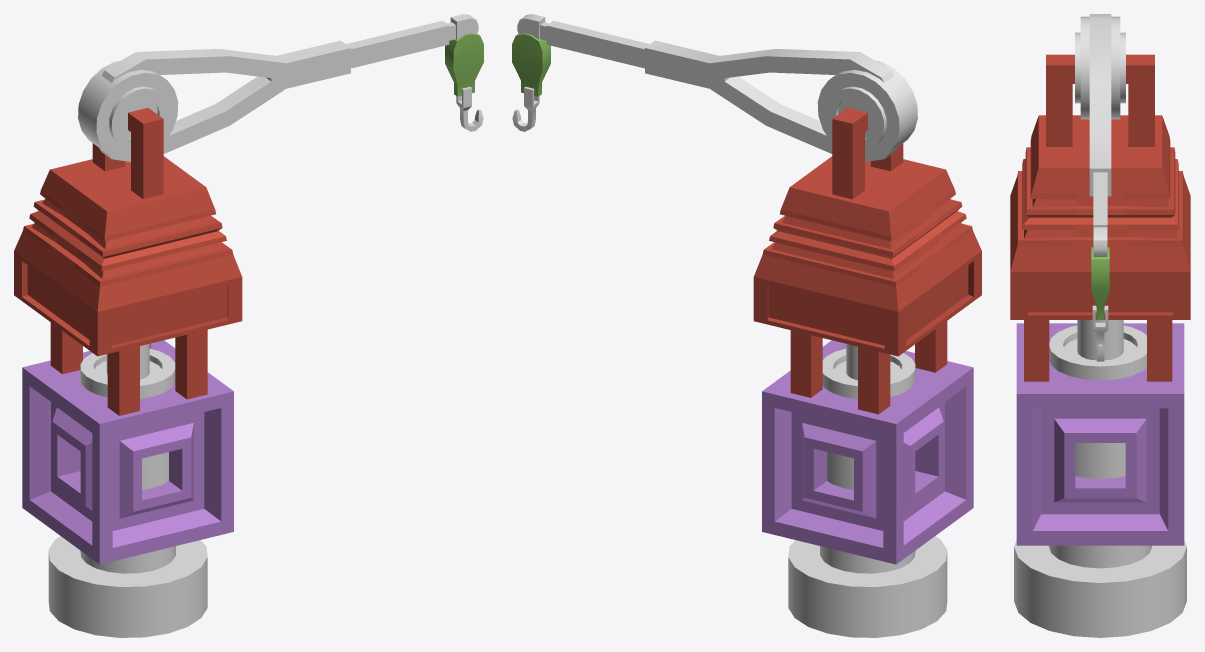
The model's file is CraneHarbor.fbx.
3 views of the same model, side by side, from view 1: azimuth 30°, elevation 25°; view 2: azimuth 150°, elevation 25°; view 3: azimuth 270°, elevation 25° (orthographic). The views are drawn at different scales.
Visible parts, largest first — view 1: Crane, Body, Arm, Rotor, Hook; view 2: Crane, Body, Arm, Rotor, Hook; view 3: Crane, Body, Rotor, Arm, Hook.
Boxes of the visible parts, x1,y1,x2,y2 form: Crane: (14,108,242,415); Body: (22,340,233,564); Arm: (78,14,478,161); Rotor: (48,344,207,637); Hook: (445,33,483,131); Crane: (753,108,981,414); Body: (762,340,973,564); Arm: (517,14,917,161); Rotor: (788,344,947,637); Hook: (512,33,550,131); Crane: (1010,54,1190,381); Body: (1016,323,1184,545); Rotor: (1014,320,1186,637); Arm: (1075,14,1125,256); Hook: (1091,247,1109,361).
Size of the model in its own units: 635 by 776 by 216.
